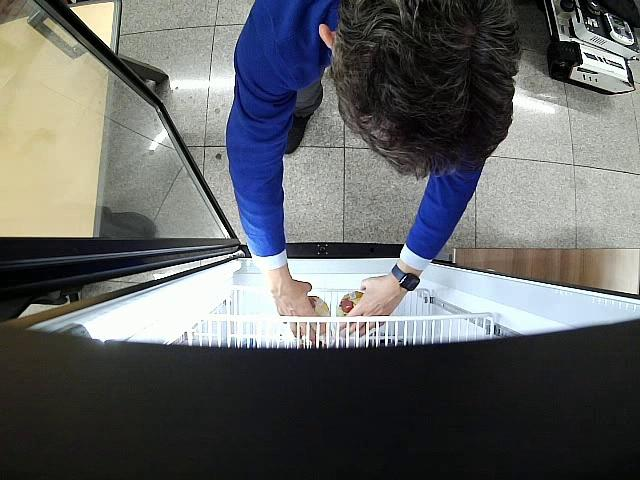00_hand: (339, 276, 406, 337), (263, 275, 317, 338)
04_chapagetti_S: (337, 291, 365, 322)
